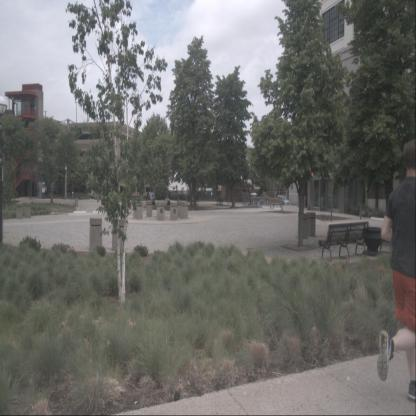human-pedestrian-adult: (377, 138, 416, 402)
vehicle-car: (146, 191, 156, 205), (277, 195, 289, 206)
